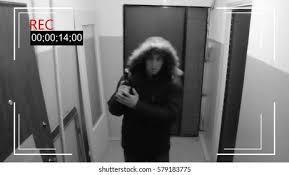weapon: (120, 63, 135, 96)
